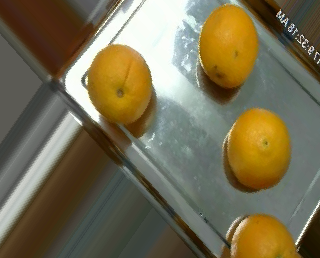Orange: (225, 107, 292, 190), (198, 3, 260, 88), (88, 43, 152, 122)
